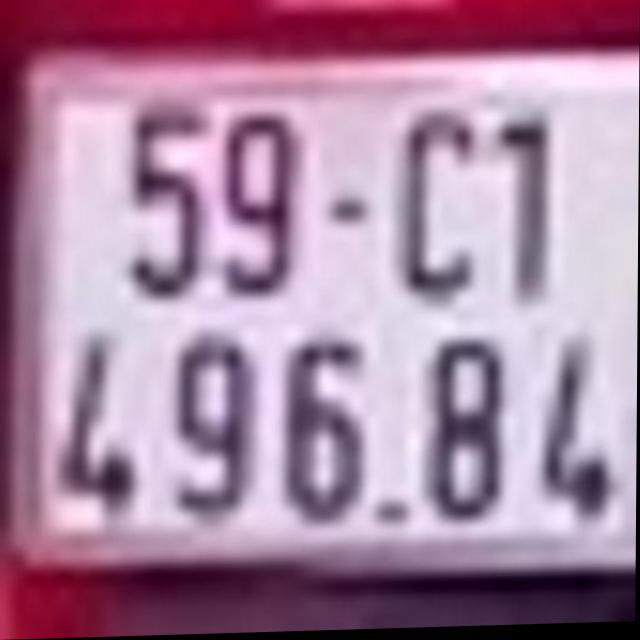1: (497, 110, 560, 308)
4: (59, 336, 137, 521), (543, 341, 617, 530)
5: (129, 107, 204, 296)
6: (284, 332, 370, 520)
8: (429, 332, 505, 526)
9: (216, 108, 296, 301), (174, 334, 255, 518)
C: (399, 121, 484, 300)
